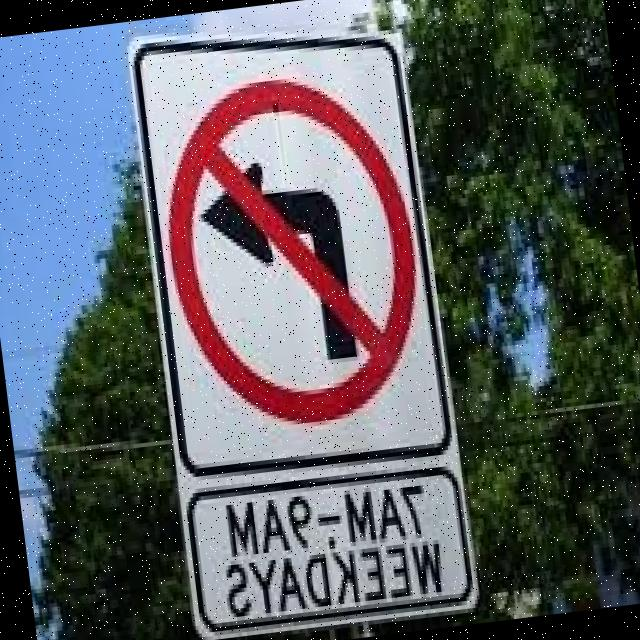do_not_turn_right: (147, 59, 438, 446)
